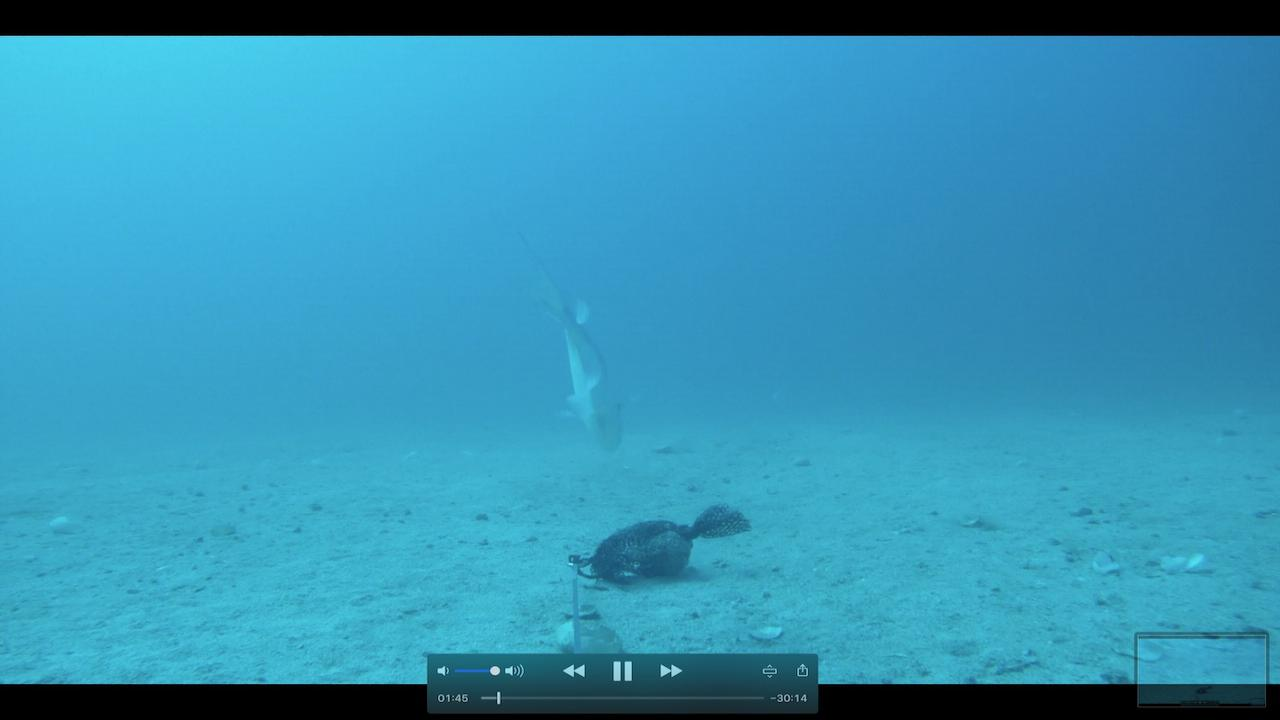balistes: (512, 228, 644, 454)
